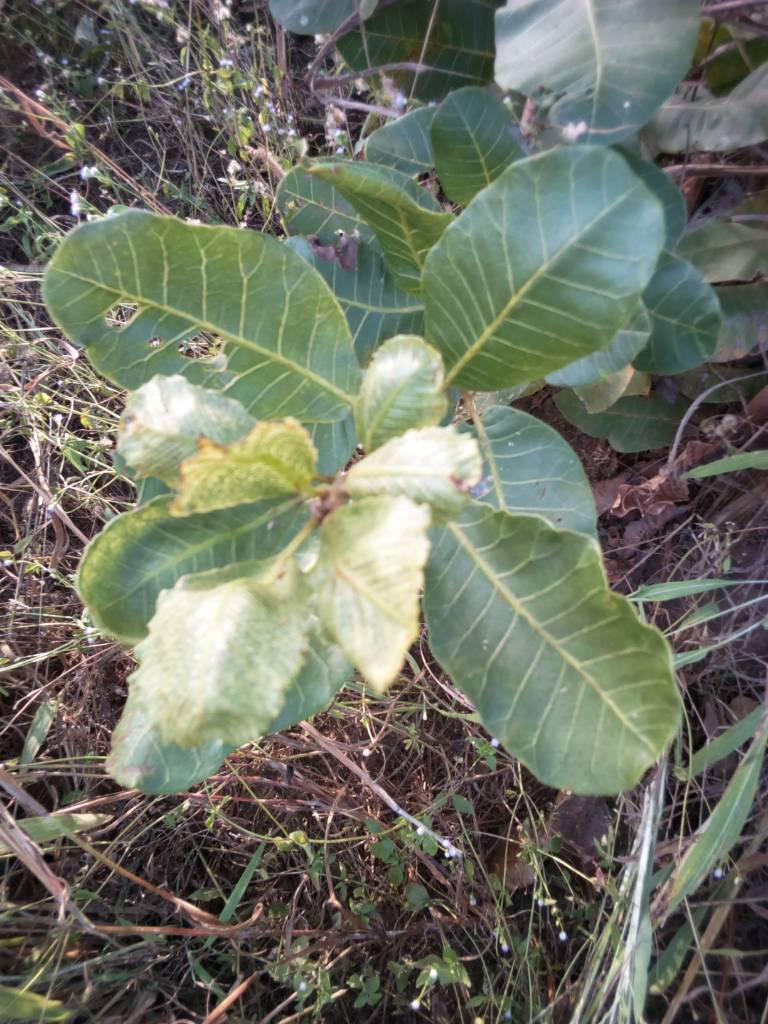Anoplocnemis curvipes: (65, 217, 335, 410)
